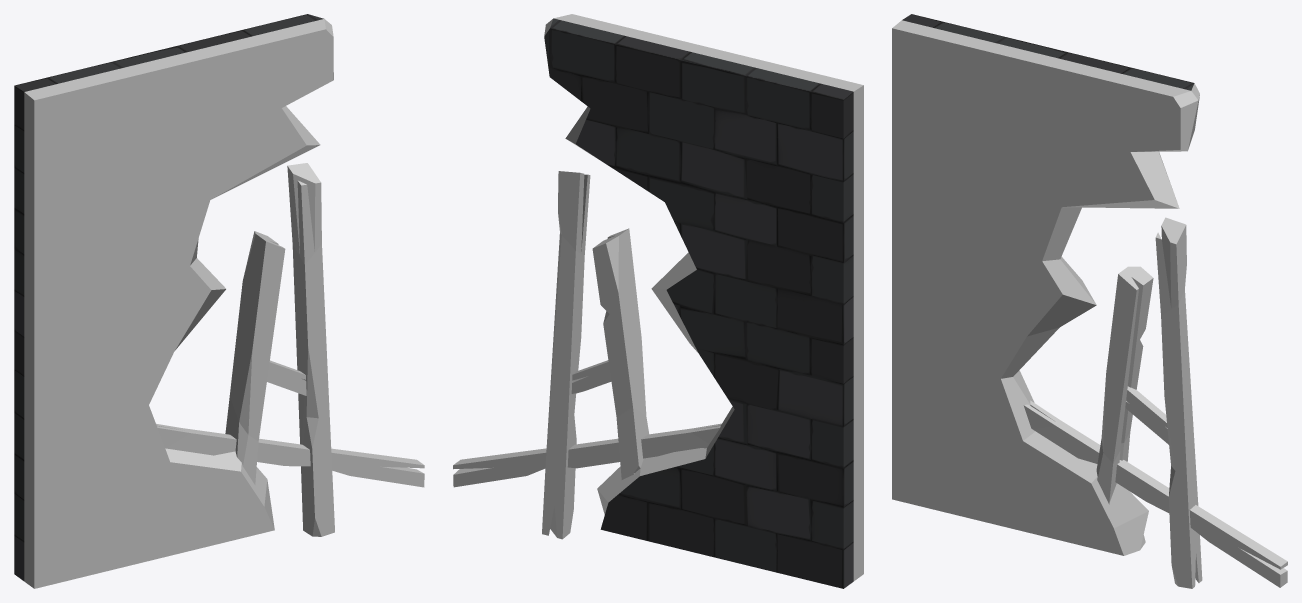
The model's file is SM_Bld_Wall_Ruin_End_03.fbx.
The picture shows the model from 3 angles, left to right: view 1: azimuth 30°, elevation 25°; view 2: azimuth 150°, elevation 25°; view 3: azimuth 330°, elevation 25°; orthographic projection. The views are drawn at different scales.
Visible parts, largest first — view 1: SM_Bld_Wall_Ruin_End_03; view 2: SM_Bld_Wall_Ruin_End_03; view 3: SM_Bld_Wall_Ruin_End_03.
Part boxes in pixels (x1=…): SM_Bld_Wall_Ruin_End_03: x1=14, y1=14, x2=424, y2=588; SM_Bld_Wall_Ruin_End_03: x1=453, y1=14, x2=863, y2=588; SM_Bld_Wall_Ruin_End_03: x1=892, y1=14, x2=1287, y2=588.
Size of the model in its own units: 255 by 315 by 22.5.
